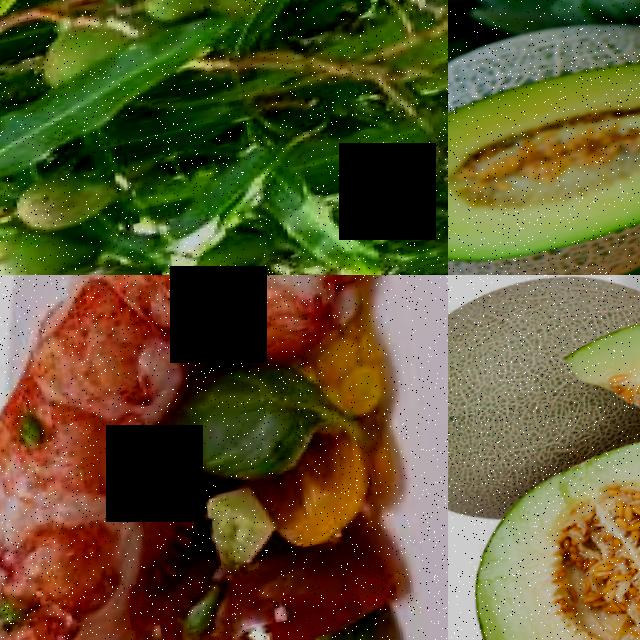mango: (7, 167, 119, 241), (0, 223, 98, 275)
melon: (448, 7, 640, 275), (448, 275, 599, 512), (456, 466, 640, 640)
